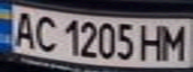0: (97, 19, 118, 61)
1: (57, 17, 81, 56)
2: (78, 18, 100, 60)
5: (115, 20, 139, 61)
A: (6, 8, 39, 48)
C: (30, 12, 60, 53)
H: (136, 21, 166, 62)
M: (157, 21, 190, 61)
